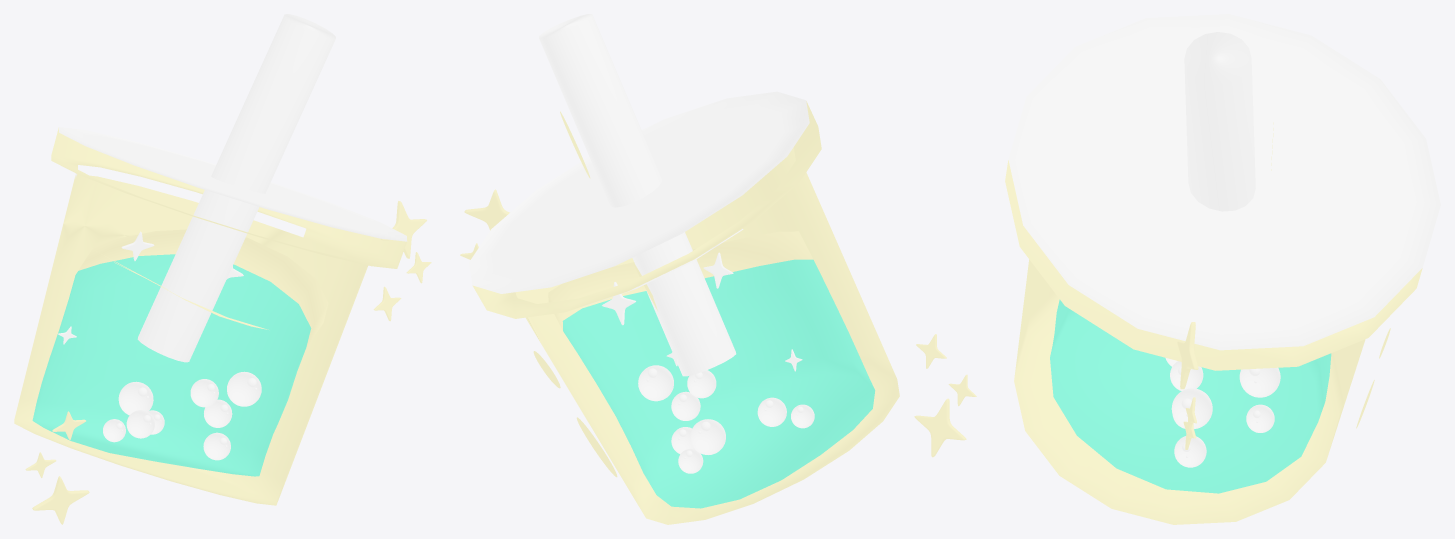
The model's file is drinkthings.gltf.
The picture shows the model from 3 angles, left to right: view 1: azimuth 30°, elevation 25°; view 2: azimuth 150°, elevation 25°; view 3: azimuth 270°, elevation 25°; orthographic projection. The views are drawn at different scales.
Visible parts, largest first — view 1: Cylinder.001, Cylinder, Cylinder.002, Sphere (×6), Star.004, Star.005; view 2: Cylinder, Cylinder.001, Cylinder.002, Sphere (×5), Star.004, Star.005; view 3: Cylinder, Cylinder.001, Cylinder.002, Sphere (×5), Star.005.
Boxes of the visible parts, bbox=[...] form: Cylinder.001: bbox=[32, 229, 328, 476]; Cylinder: bbox=[14, 127, 407, 505]; Cylinder.002: bbox=[137, 14, 335, 362]; Sphere (×6): bbox=[118, 371, 261, 460]; Star.004: bbox=[25, 411, 89, 524]; Star.005: bbox=[373, 201, 431, 321]; Cylinder: bbox=[469, 91, 899, 524]; Cylinder.001: bbox=[548, 231, 875, 508]; Cylinder.002: bbox=[539, 14, 736, 376]; Sphere (×5): bbox=[638, 365, 786, 454]; Star.004: bbox=[914, 334, 976, 457]; Star.005: bbox=[460, 189, 516, 297]; Cylinder: bbox=[1005, 14, 1440, 524]; Cylinder.001: bbox=[1050, 299, 1331, 493]; Cylinder.002: bbox=[1184, 32, 1255, 211]; Sphere (×5): bbox=[1170, 361, 1280, 467]; Star.005: bbox=[1177, 322, 1198, 449].
Bounding box in the file's own units: 3.74 × 3.52 × 2.65.
